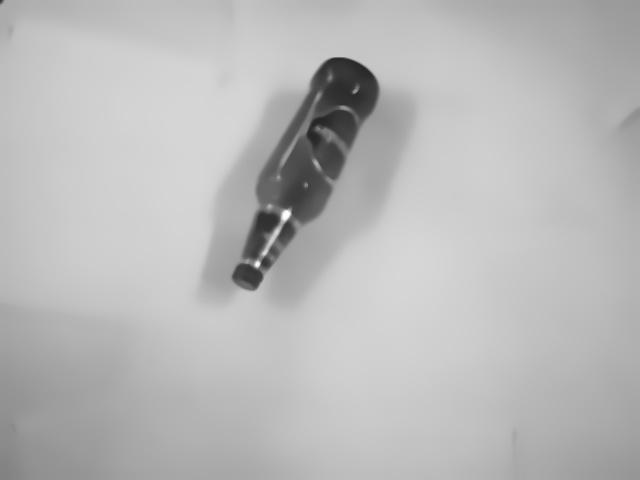Glass: (230, 58, 383, 286)
